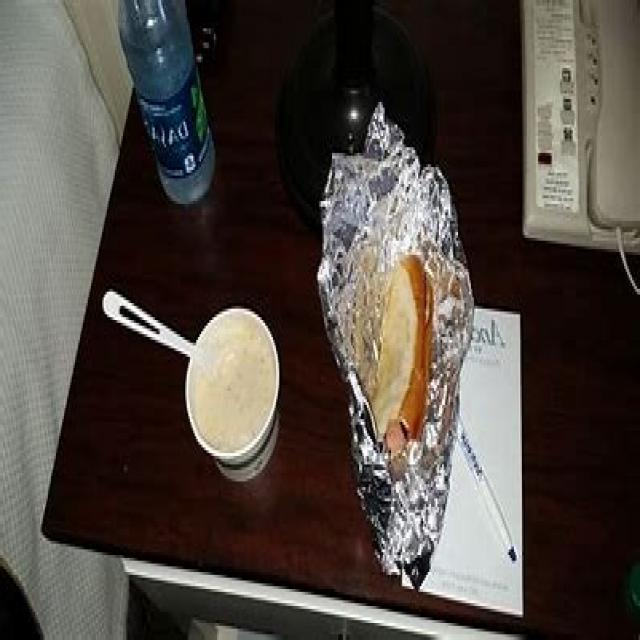Sandwich: (362, 232, 442, 476)
